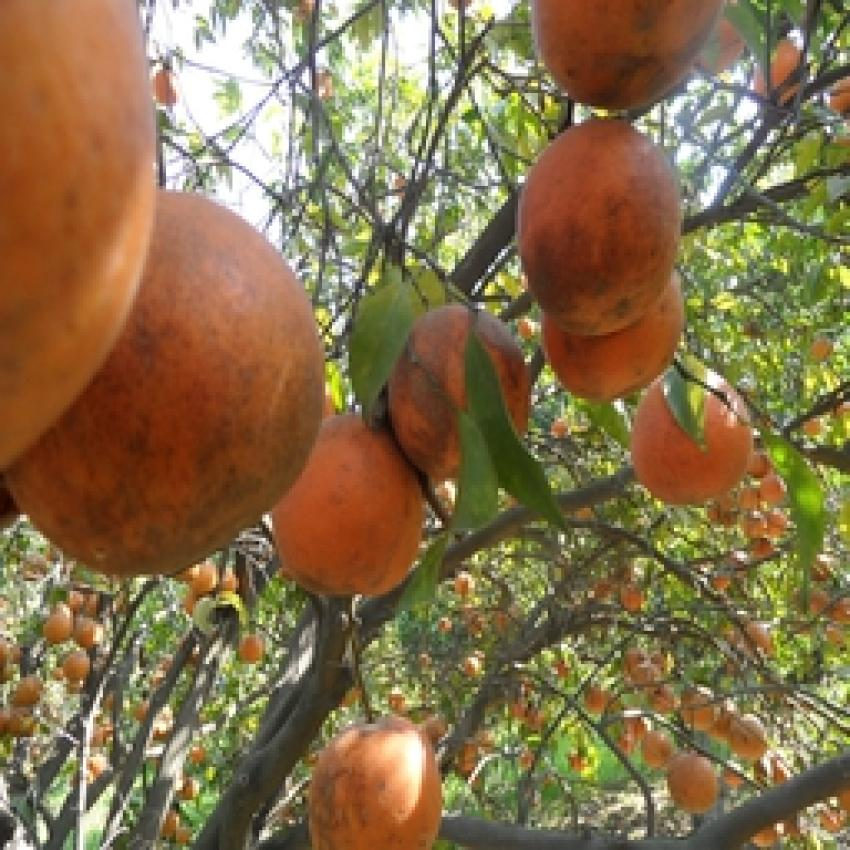Mal estado: (0, 173, 329, 581), (0, 0, 156, 475), (506, 115, 676, 333), (272, 408, 430, 615), (386, 302, 534, 496), (512, 0, 731, 127), (531, 268, 685, 401), (304, 712, 446, 847)
